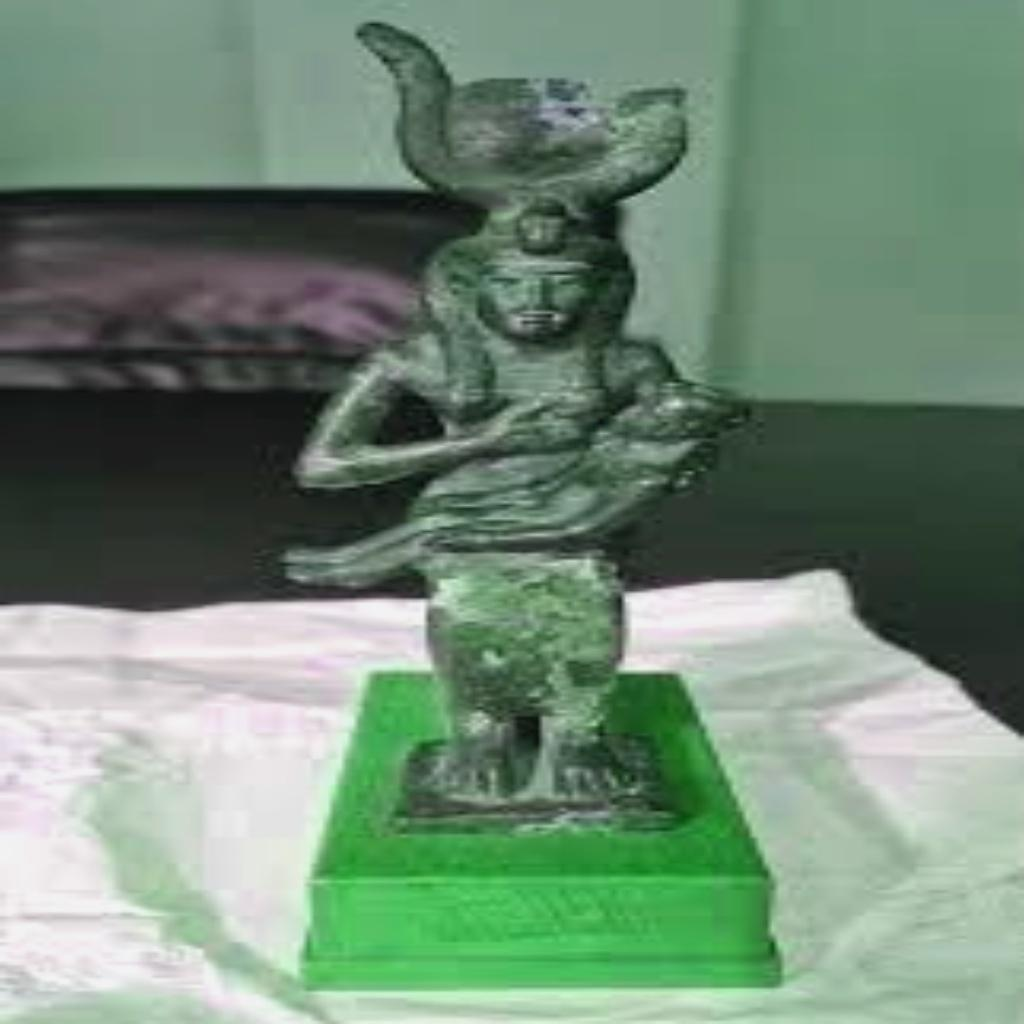Isis with her child: (267, 16, 763, 828)
